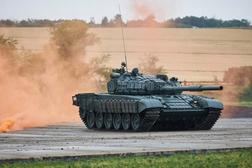t72: (73, 68, 225, 127)
